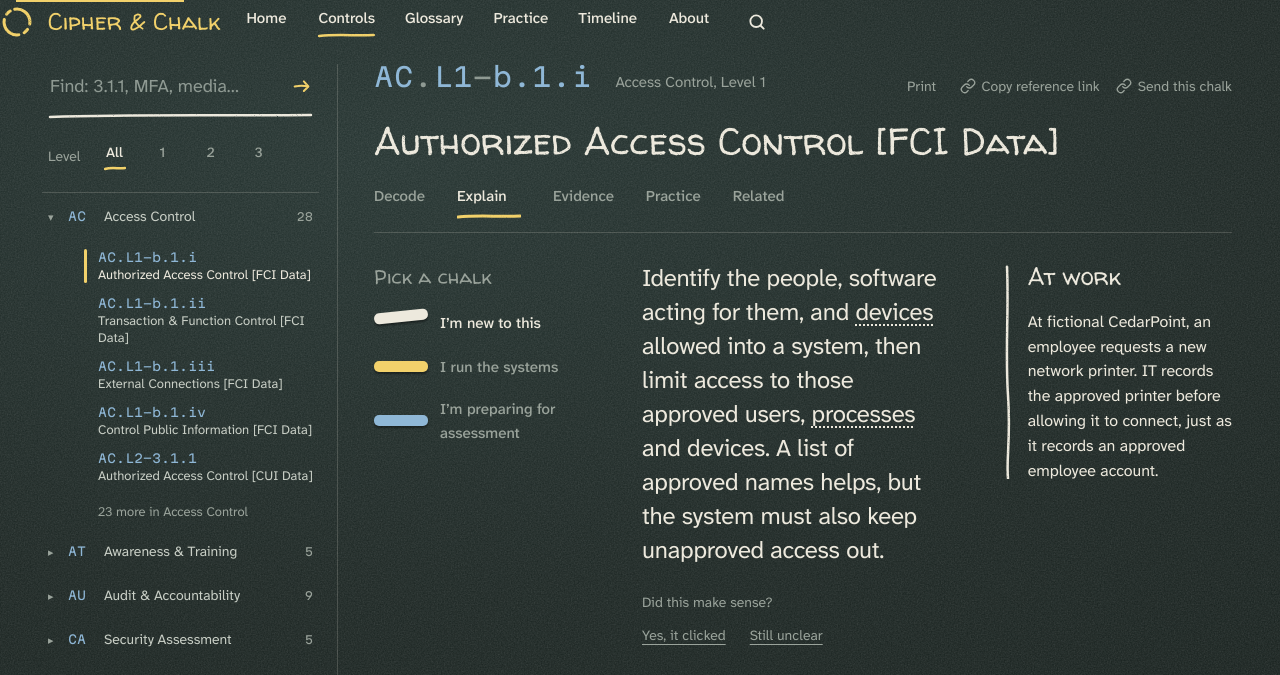
Test case: Chalk popovers in the explanation › pins the popover on a tap with focus inside; Escape closes it and gives focus back
Click the button "devices" at point(894, 312), box [855,296,933,328]
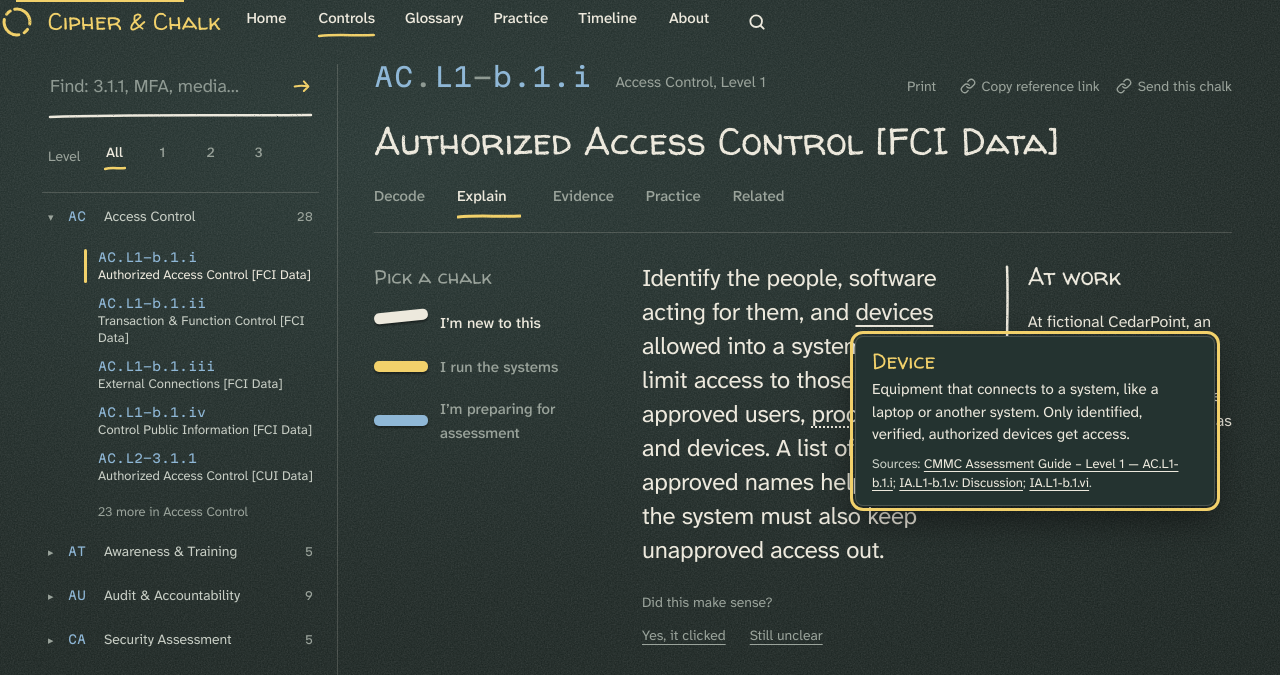
Move the pointer off the button "devices", box [855,296,933,328]
expect the dialog "Device" is shown: met, box [855,336,1215,506]
Press Escape
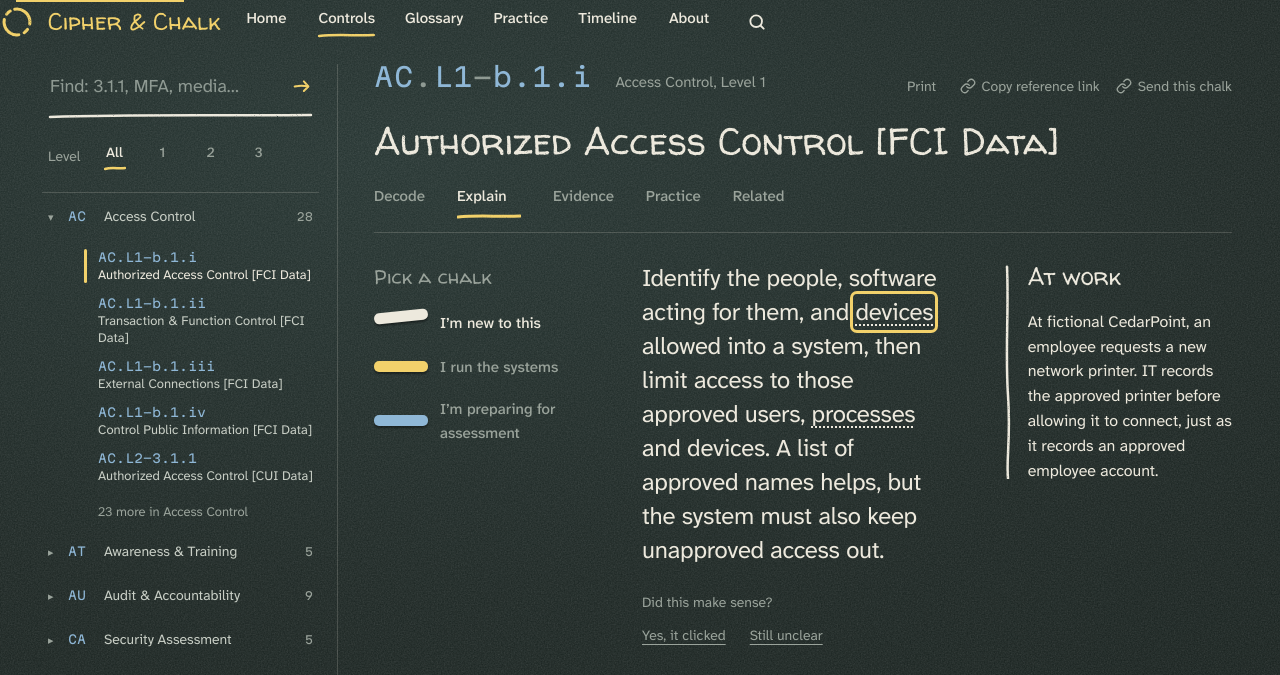
expect the dialog is gone: met
Pressing the word again closes it too.
Click the button "devices" at point(894, 312), box [855,296,933,328]
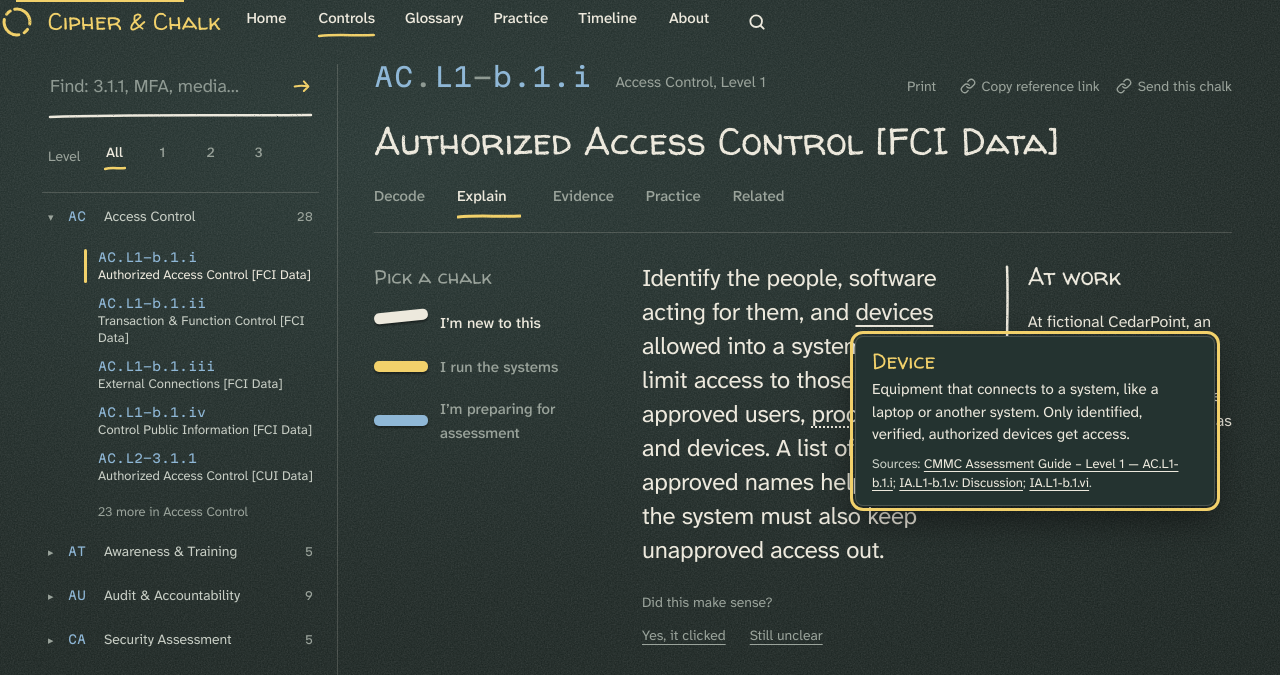
expect the dialog "Device" is shown: met, box [855,336,1215,506]
Click the button "devices" at point(894, 312), box [855,296,933,328]
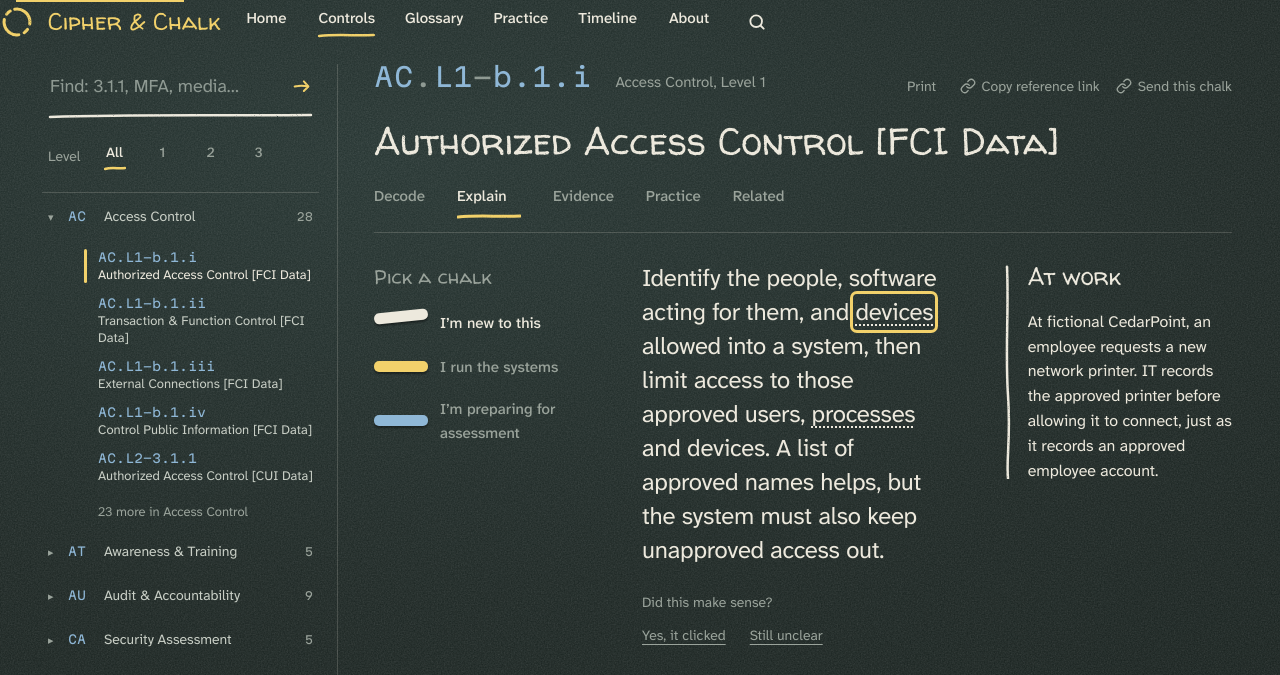
expect the dialog is gone: met
